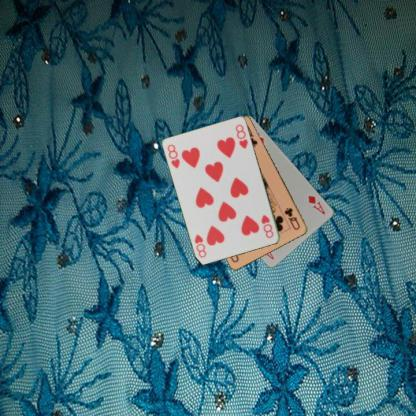8h: (165, 142, 182, 169), (259, 212, 275, 239)
Ad: (305, 192, 327, 216)
Qc: (282, 205, 302, 231)
